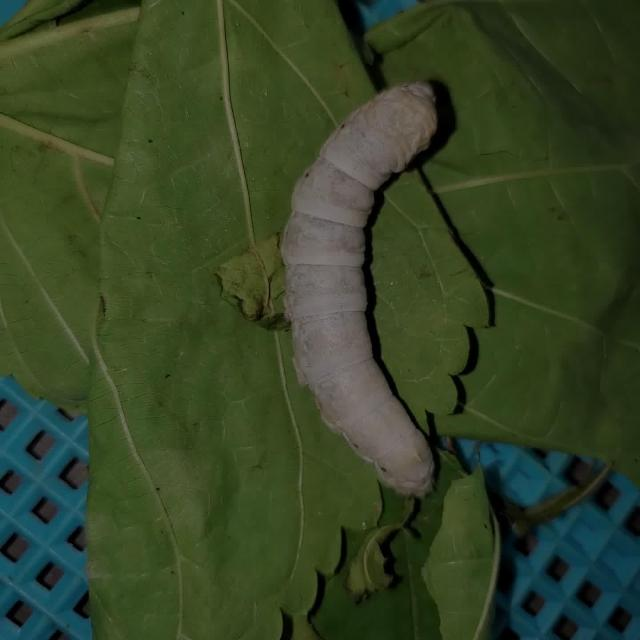Grasserie: (253, 71, 482, 518)
